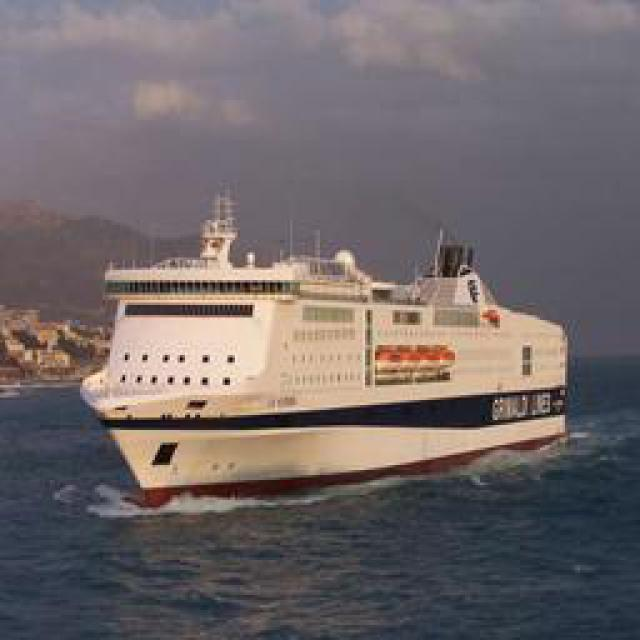Ship: (81, 216, 571, 499)
